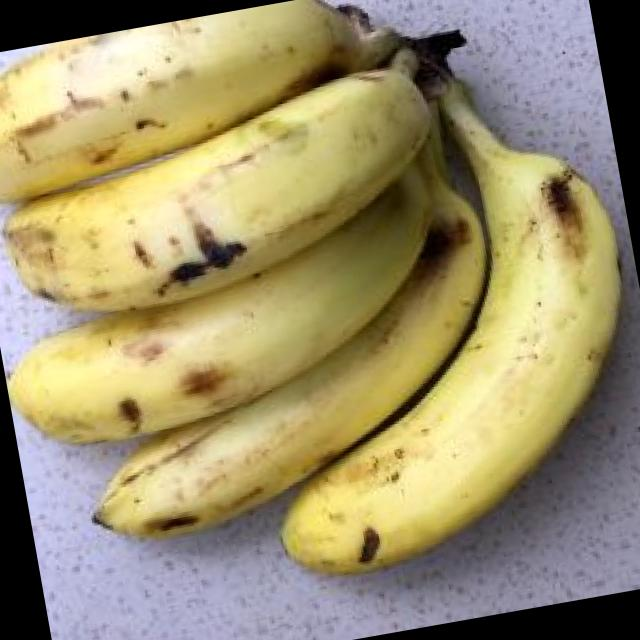banana: (11, 156, 549, 544)
